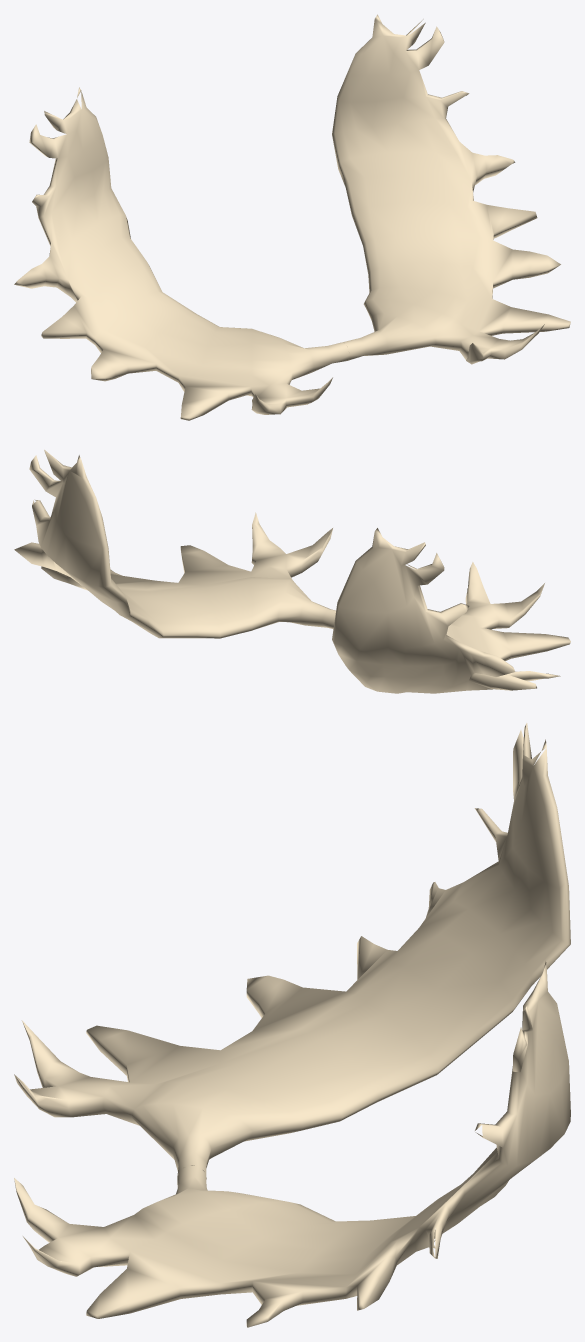
File: cX6NECw97x7.glb
The picture shows the model from 3 angles, top to bottom: view 1: azimuth 30°, elevation 25°; view 2: azimuth 150°, elevation 25°; view 3: azimuth 270°, elevation 25°; orthographic projection. The views are drawn at different scales.
Visible parts, largest first — view 1: Symmetry.1; view 2: Symmetry.1; view 3: Symmetry.1.
Boxes of the visible parts, box(x1,y1,x2,y2) form: Symmetry.1: box(14, 14, 570, 420); Symmetry.1: box(14, 449, 570, 693); Symmetry.1: box(14, 723, 570, 1327).
Bounding box in the file's own units: 2.3 × 1 × 1.45.
